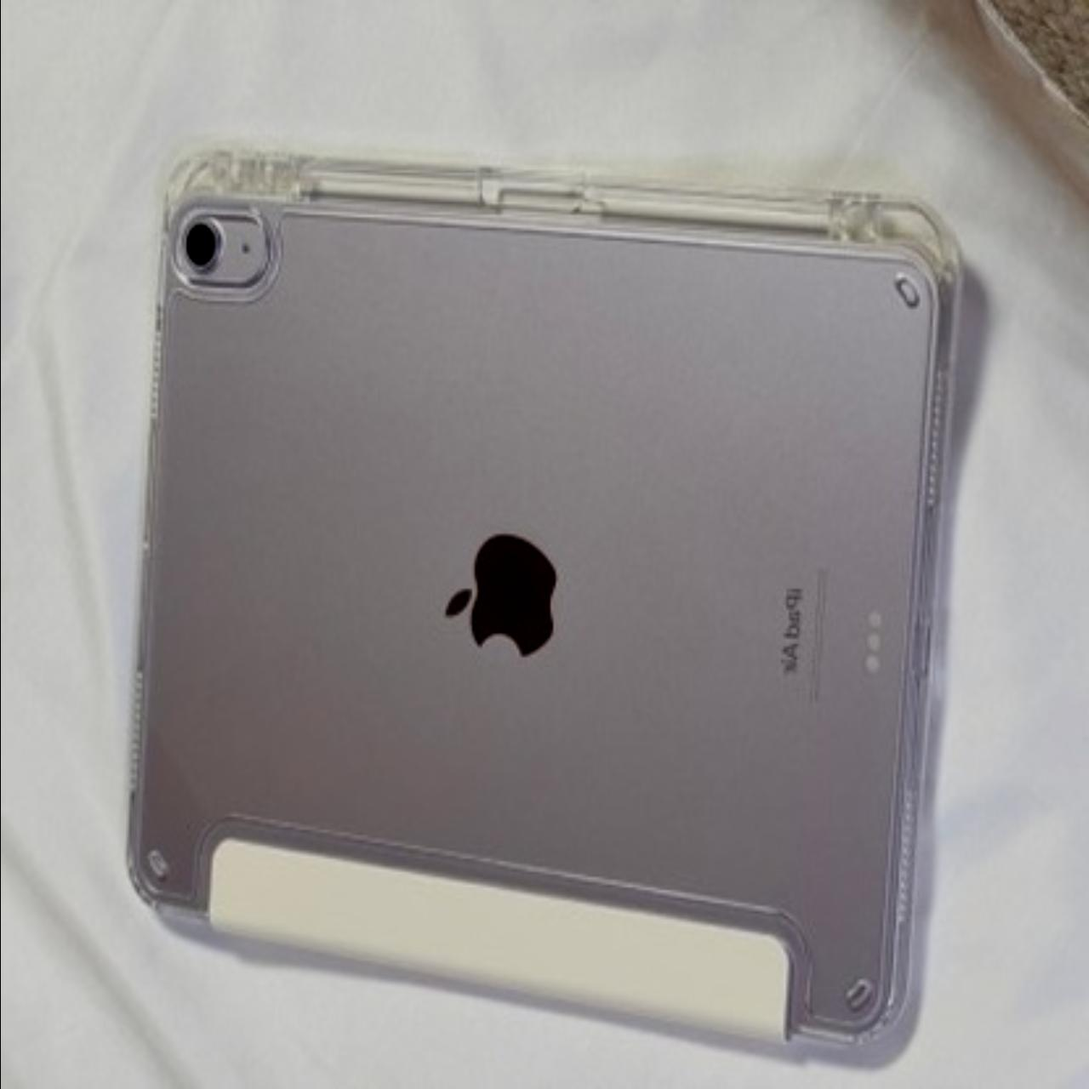Tablet_PC: (123, 129, 995, 1076)
